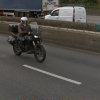Motorcycle: (6, 16, 52, 70)
